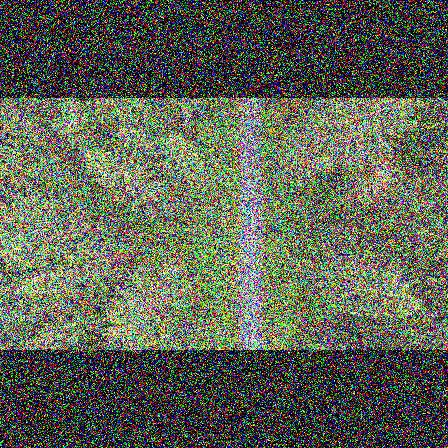Sick: (58, 104, 89, 135)
